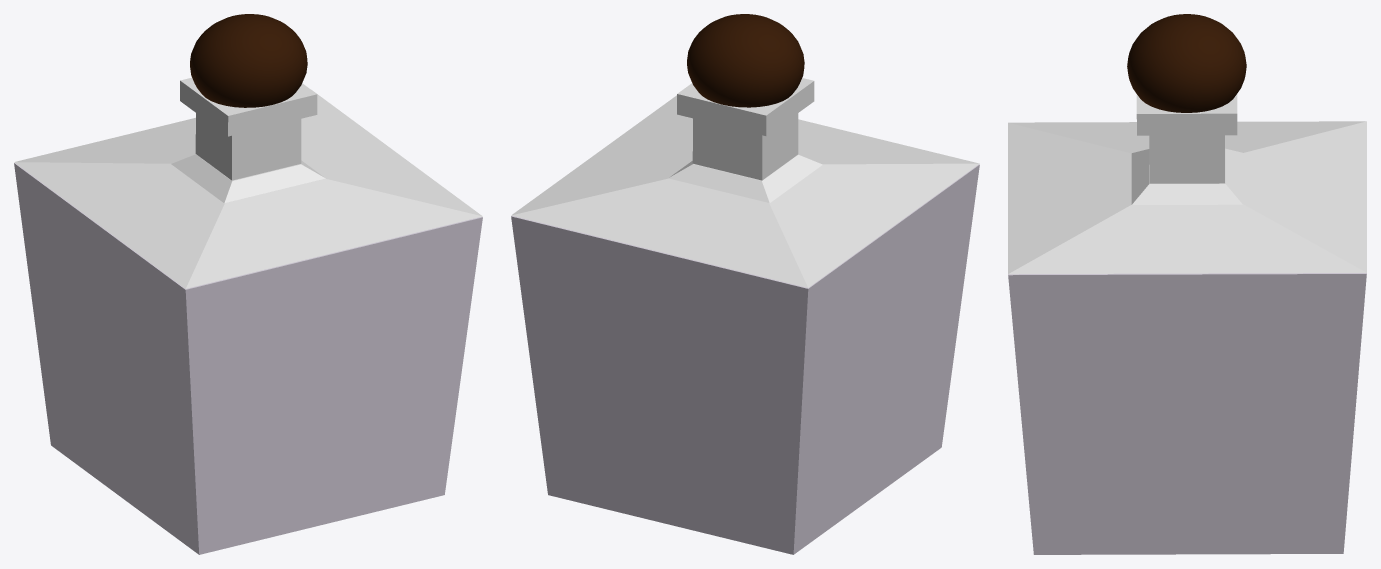
Rendered from Potion.fbx.
3 views of the same model, side by side, from view 1: azimuth 30°, elevation 25°; view 2: azimuth 150°, elevation 25°; view 3: azimuth 270°, elevation 25° (orthographic). The views are drawn at different scales.
Parts seen in each view (by area): view 1: Cube, Cube.001, Sphere; view 2: Cube, Cube.001, Sphere; view 3: Cube, Cube.001, Sphere.
Part boxes in pixels (left/top/right/bottom): Cube: left=14, top=163, right=482, bottom=554; Cube.001: left=14, top=77, right=482, bottom=288; Sphere: left=190, top=14, right=307, bottom=107; Cube: left=511, top=164, right=979, bottom=554; Cube.001: left=511, top=78, right=979, bottom=287; Sphere: left=687, top=14, right=804, bottom=107; Cube: left=1008, top=273, right=1366, bottom=554; Cube.001: left=1008, top=94, right=1366, bottom=274; Sphere: left=1127, top=14, right=1246, bottom=112.
Size of the model in its own units: 200 by 290 by 200.
